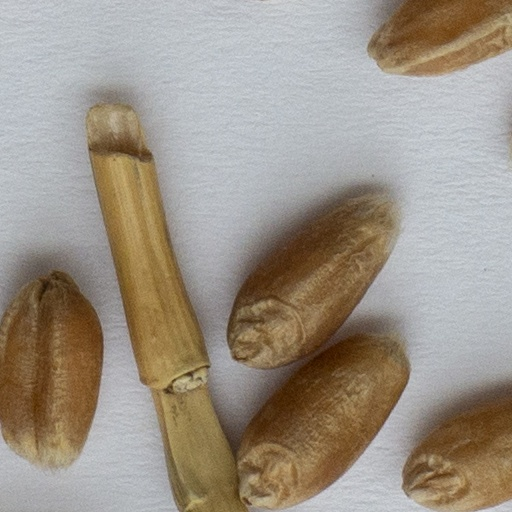Peel-poly: (86, 100, 247, 511)
